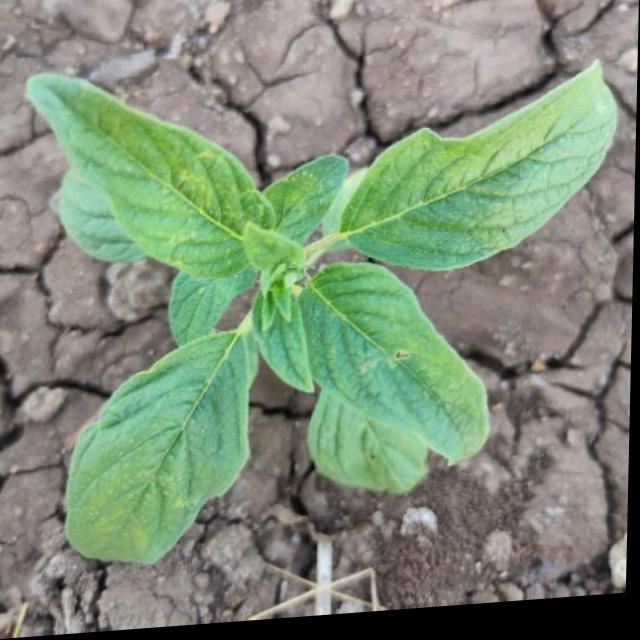crop: (19, 17, 618, 577)
